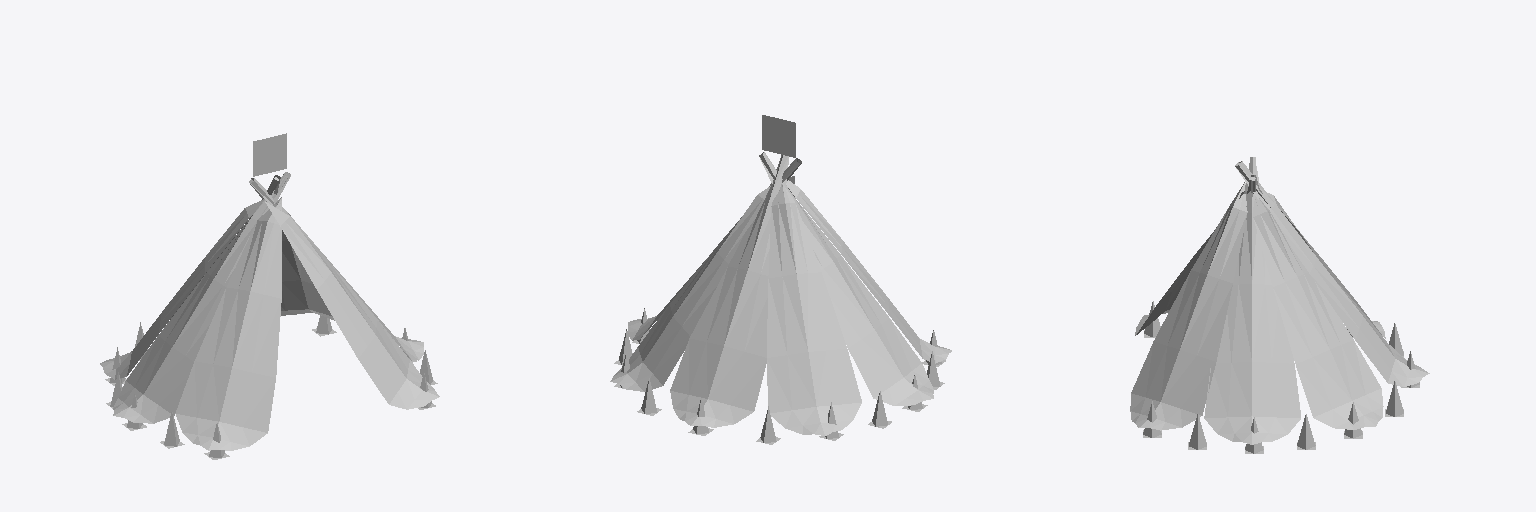
The model's file is shelter.obj.
The picture shows the model from 3 angles: view 1: azimuth 30°, elevation 25°; view 2: azimuth 150°, elevation 25°; view 3: azimuth 270°, elevation 25°; orthographic projection.
Visible parts, largest first — view 1: leaf_7_Plane.029, leaf_1_Plane.021, leaf_6_Plane.027, leaf_4_Plane.023, leaf_5_Plane.024, bed_Plane.025, indicator_Plane, leaf_2_Plane.020; view 2: leaf_4_Plane.023, leaf_3_Plane.022, leaf_1_Plane.021, leaf_5_Plane.024, bed_Plane.025, leaf_7_Plane.029, indicator_Plane, leaf_2_Plane.020; view 3: leaf_2_Plane.020, leaf_6_Plane.027, leaf_5_Plane.024, leaf_3_Plane.022, bed_Plane.025, leaf_7_Plane.029, leaf_4_Plane.023.
Part boxes in pixels (bbox=[...]): leaf_7_Plane.029: bbox=[175, 197, 281, 450]; leaf_1_Plane.021: bbox=[113, 172, 290, 423]; leaf_6_Plane.027: bbox=[265, 201, 439, 409]; leaf_4_Plane.023: bbox=[100, 199, 264, 379]; leaf_5_Plane.024: bbox=[281, 213, 334, 320]; bed_Plane.025: bbox=[105, 315, 437, 459]; indicator_Plane: bbox=[253, 133, 286, 176]; leaf_2_Plane.020: bbox=[249, 178, 423, 360]; leaf_4_Plane.023: bbox=[767, 183, 861, 435]; leaf_3_Plane.022: bbox=[670, 155, 788, 427]; leaf_1_Plane.021: bbox=[759, 152, 933, 405]; leaf_5_Plane.024: bbox=[610, 186, 770, 391]; bed_Plane.025: bbox=[614, 308, 945, 444]; leaf_7_Plane.029: bbox=[786, 180, 951, 363]; indicator_Plane: bbox=[762, 115, 795, 157]; leaf_2_Plane.020: bbox=[628, 158, 801, 340]; leaf_2_Plane.020: bbox=[1204, 157, 1300, 444]; leaf_6_Plane.027: bbox=[1130, 182, 1247, 430]; leaf_5_Plane.024: bbox=[1253, 196, 1383, 429]; leaf_3_Plane.022: bbox=[1235, 161, 1429, 386]; bed_Plane.025: bbox=[1143, 301, 1419, 453]; leaf_7_Plane.029: bbox=[1135, 191, 1246, 335]; leaf_4_Plane.023: bbox=[1267, 193, 1385, 338].
Size of the model in its own units: 2.28 by 1.8 by 1.92.